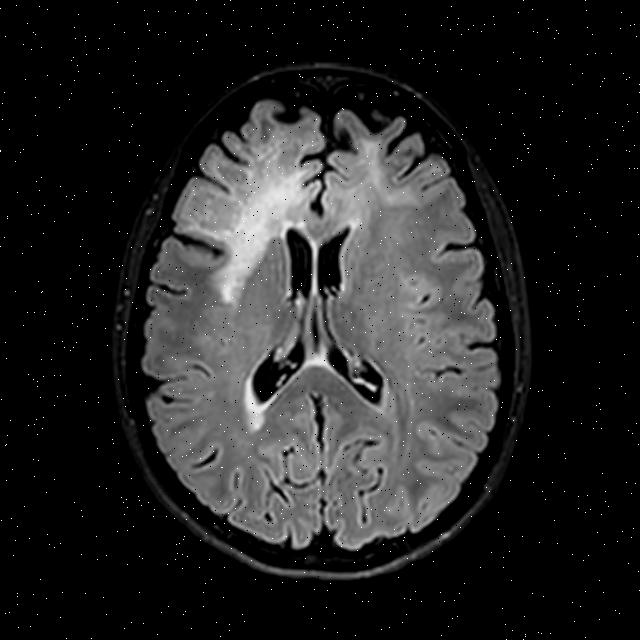NoTumor: (93, 50, 545, 594)
